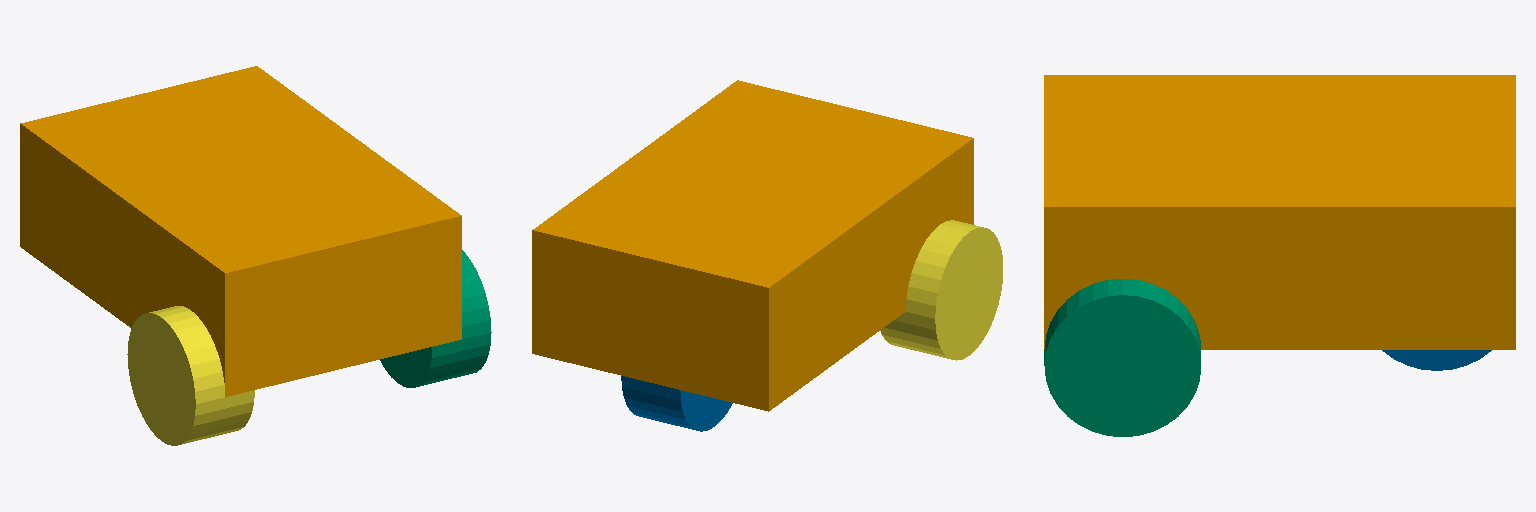
The robot description file, URDF, robot "test_robot":
<robot name="test_robot">
  <link name="base_link">
    <visual>
       <geometry>
         <box size="0.2 .3 .1"/>
       </geometry>
       <origin rpy="0 0 0" xyz="0 0 0.05"/>
    </visual>
    <inertial>
      <mass value="10"/>
      <inertia ixx="0.4" ixy="0.0" ixz="0.0" iyy="0.4" iyz="0.0" izz="0.2"/>
    </inertial>
  </link>

    <link name="steering_wheel_joint_link">
    <visual>
       <geometry>
         <box size="0.02 .03 .01"/>
       </geometry>
    </visual>
    <inertial>
      <mass value="10"/>
      <inertia ixx="0.4" ixy="0.0" ixz="0.0" iyy="0.4" iyz="0.0" izz="0.2"/>
    </inertial>
  </link>

    
  <link name="wheel_left">
    <visual>
      <geometry>
        <cylinder length="0.05" radius="0.05"/>
      </geometry>
    </visual>
    <collision>
      <geometry>
        <cylinder length="0.05" radius="0.05"/>
      </geometry>
    </collision>
    <inertial>
      <mass value="10"/>
      <inertia ixx="0.4" ixy="0.0" ixz="0.0" iyy="0.4" iyz="0.0" izz="0.2"/>
    </inertial>
  </link>
 
  <link name="wheel_right">
    <visual>
      <geometry>
        <cylinder length="0.05" radius="0.05"/>
      </geometry>
    </visual>
    <collision>
      <geometry>
        <cylinder length="0.05" radius="0.05"/>
      </geometry>
    </collision>
    <inertial>
      <mass value="10"/>
      <inertia ixx="0.4" ixy="0.0" ixz="0.0" iyy="0.4" iyz="0.0" izz="0.2"/>
    </inertial>
  </link>

  <link name="steering_wheel">
    <visual>
      <geometry>
        <cylinder length="0.05" radius="0.05"/>
      </geometry>
    </visual>
    <collision>
      <geometry>
        <cylinder length="0.05" radius="0.05"/>
      </geometry>
    </collision>
    <inertial>
      <mass value="10"/>
      <inertia ixx="0.4" ixy="0.0" ixz="0.0" iyy="0.4" iyz="0.0" izz="0.2"/>
    </inertial>
  </link>
 
 
  <joint name="joint_base_wheel1" type="continuous">
    <parent link="base_link"/>
    <child link="wheel_left"/>
    <origin rpy="0 1.5708 0" xyz="0.1 -0.1 0"/>
    <axis xyz="0 0 1"/> 
  </joint>
 
  <joint name="joint_base_wheel2" type="continuous">
    <parent link="base_link"/>
    <child link="wheel_right"/>
    <axis xyz="0 0 1"/>
    <origin rpy="0 1.5708 0" xyz="-0.1 -0.1 0"/>
  </joint>
 
  <joint name="joint_base_steering" type="continuous">
    <parent link="base_link"/>
    <child link="steering_wheel_joint_link"/>
    <axis xyz="0 0 1"/>
    <origin rpy="0 0 0" xyz="0 0.1 0"/>
  </joint>

  <joint name="joint_base_wheel3" type="continuous">
    <parent link="steering_wheel_joint_link"/>
    <child link="steering_wheel"/>
    <axis xyz="0 0 1"/> 
    <origin rpy="0 1.5708 0" xyz="0 0 0"/>
  </joint>

</robot>

--- What the picture shows (computed from the rendered views, not written in the file) ---
3 views of the same robot in one strip: view 1: azimuth 30°, elevation 25°; view 2: azimuth 150°, elevation 25°; view 3: azimuth 270°, elevation 25° (orthographic).
Model test_robot with 5 links and 4 joints (4 continuous), rooted at base_link, posed all joints at 0.
Visible links, largest first — view 1: base_link, wheel_right, wheel_left; view 2: base_link, wheel_right, steering_wheel; view 3: base_link, wheel_left, steering_wheel.
Boxes of the visible links, x1,y1,x2,y2 form: base_link: (20, 66, 461, 396); wheel_right: (127, 306, 254, 445); wheel_left: (380, 250, 491, 387); base_link: (532, 80, 973, 411); wheel_right: (880, 220, 1002, 360); steering_wheel: (621, 376, 732, 431); base_link: (1044, 75, 1515, 349); wheel_left: (1044, 279, 1200, 436); steering_wheel: (1382, 350, 1491, 370).
Size in the robot's own frame: 0.25 by 0.3 by 0.15 metres.
Geometry: primitives only (box / cylinder / sphere), no mesh files.